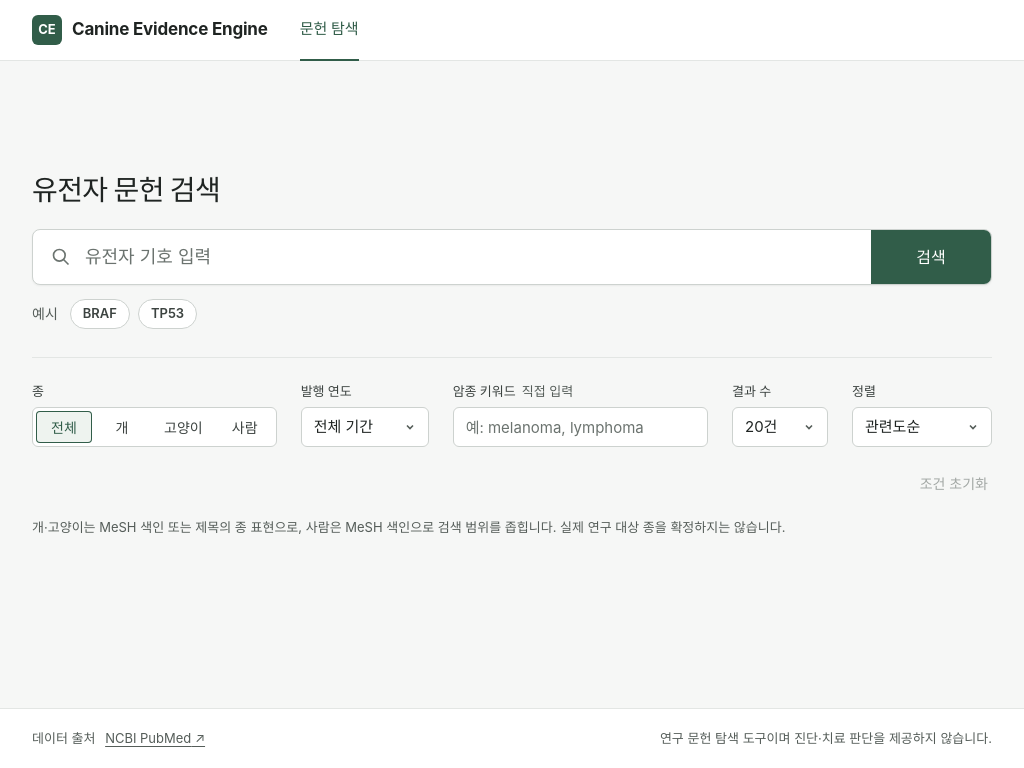
Test: search screen transition › enables reset only when conditions differ from defaults and restores them
The width and height of the screenshot is (1024, 768).
Expected: the button "조건 초기화" is disabled, [916,463,992,503]
Click the radio button labelled "개": coordinates (122, 427) [116,419,128,436]
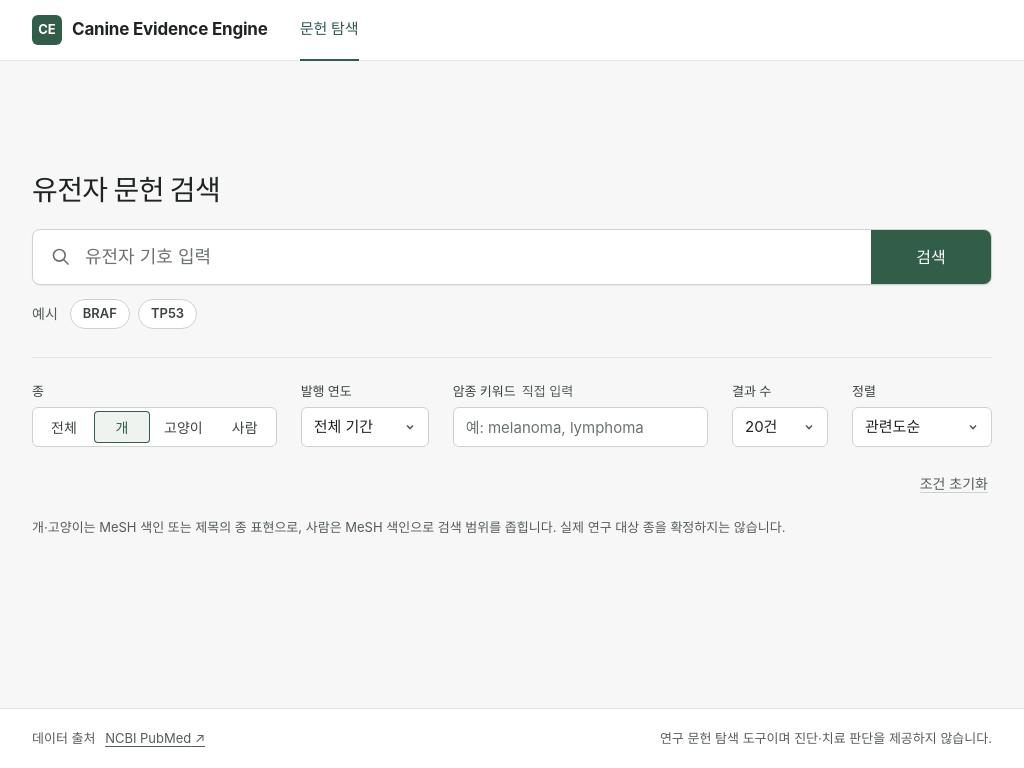
In the field labelled "암종 키워드": coordinates (580, 427) [453,407,708,447], type "lymphoma"
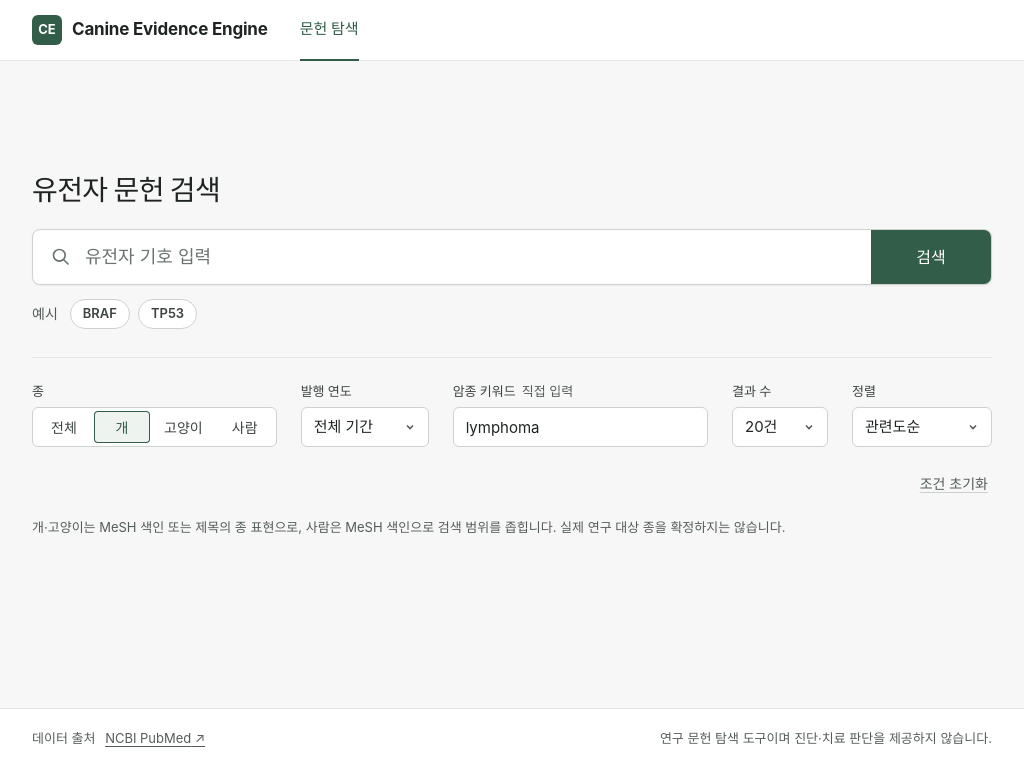
Now the button "조건 초기화" is enabled
Click the button "조건 초기화": coordinates (954, 483) [916,463,992,503]
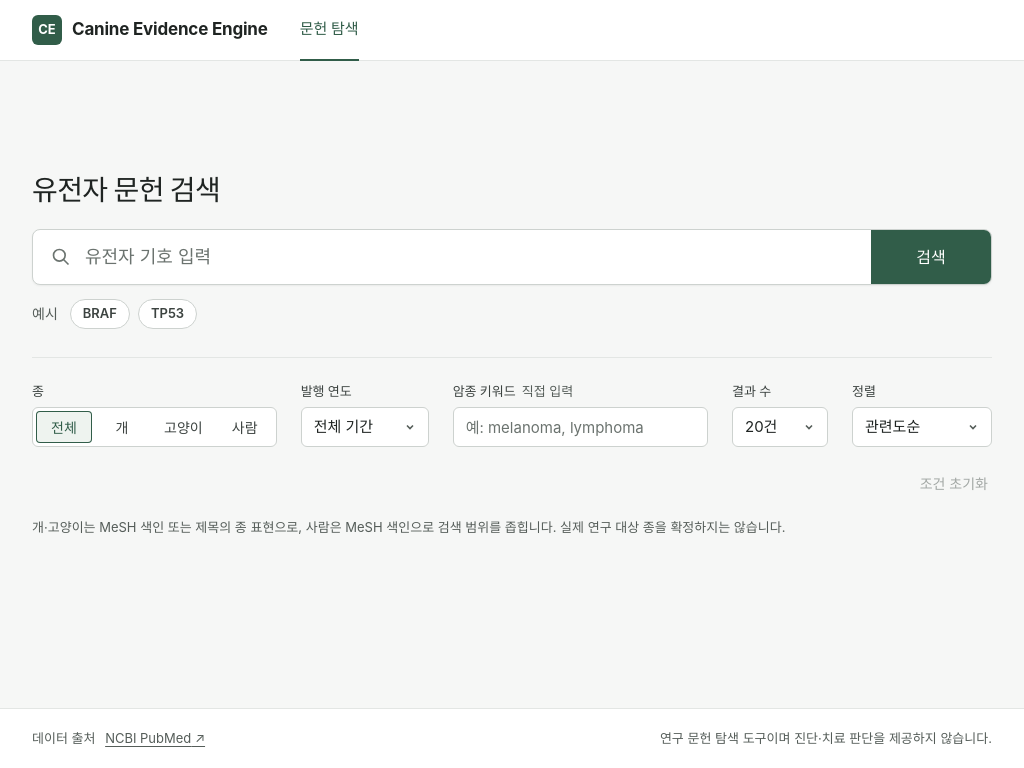
Expected: the radio button labelled "전체" is checked, [36,411,92,443]
Now the field labelled "암종 키워드" is empty, box [453,407,708,447]
Now the button "조건 초기화" is disabled, box [916,463,992,503]
